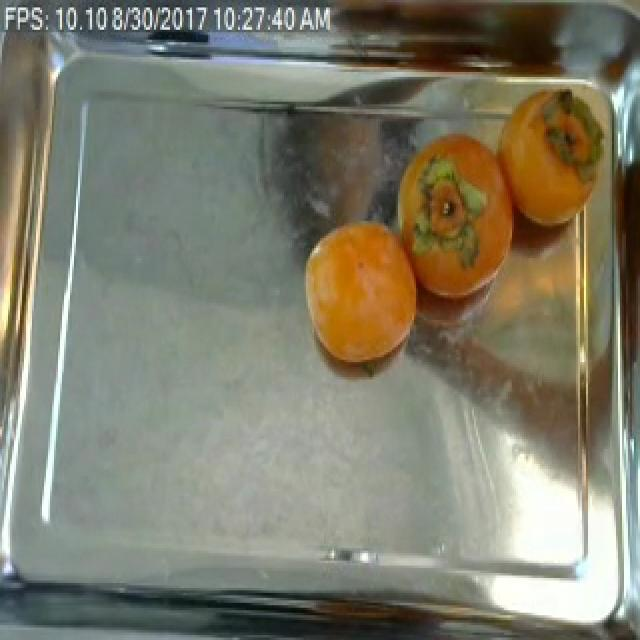Fruit: (246, 89, 414, 246), (296, 203, 428, 370)
